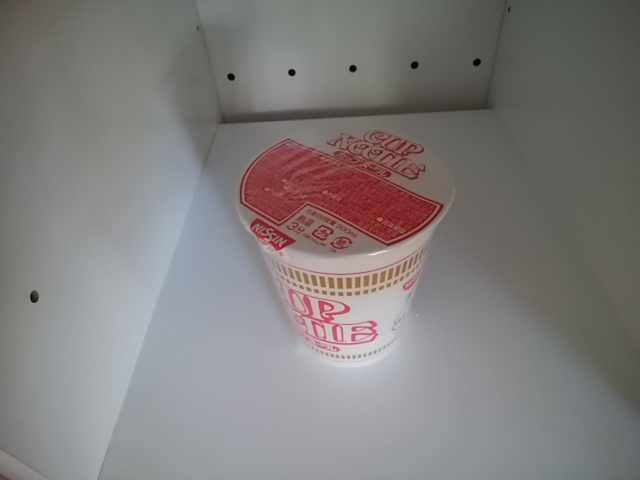cup-ramen: (230, 120, 463, 373)
